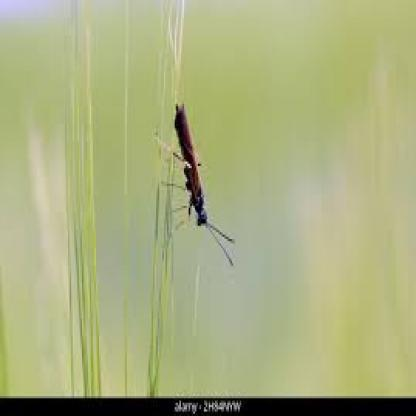sawfly: (154, 91, 237, 279)
